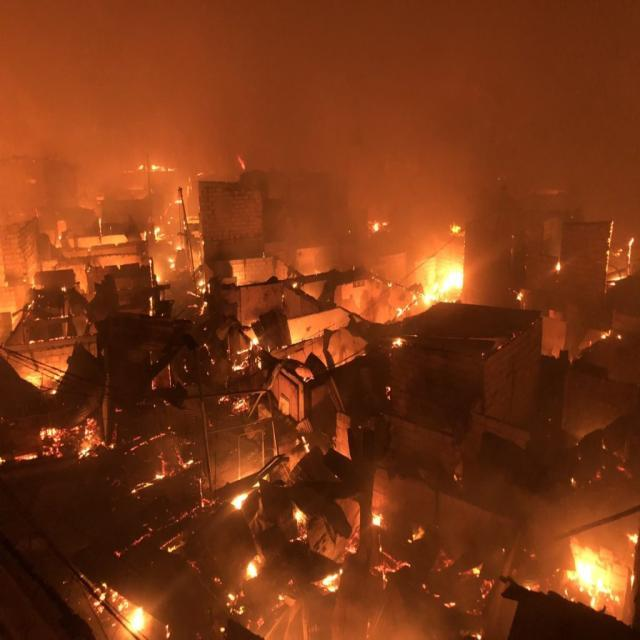Fire: (574, 533, 628, 621), (416, 258, 468, 303)
Smoke: (2, 0, 640, 233)
